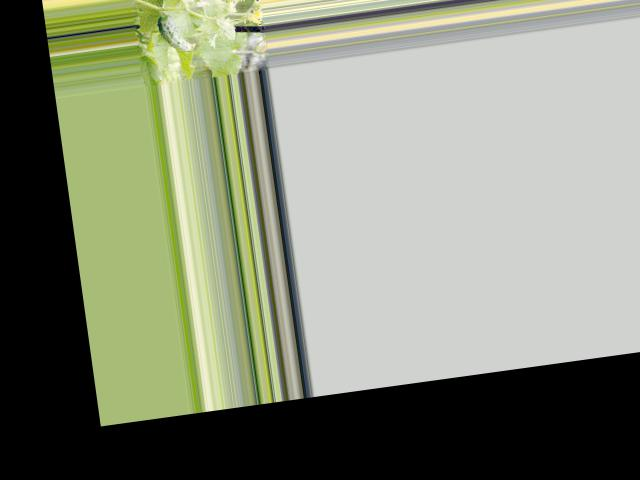cucumber: (156, 10, 196, 55)
